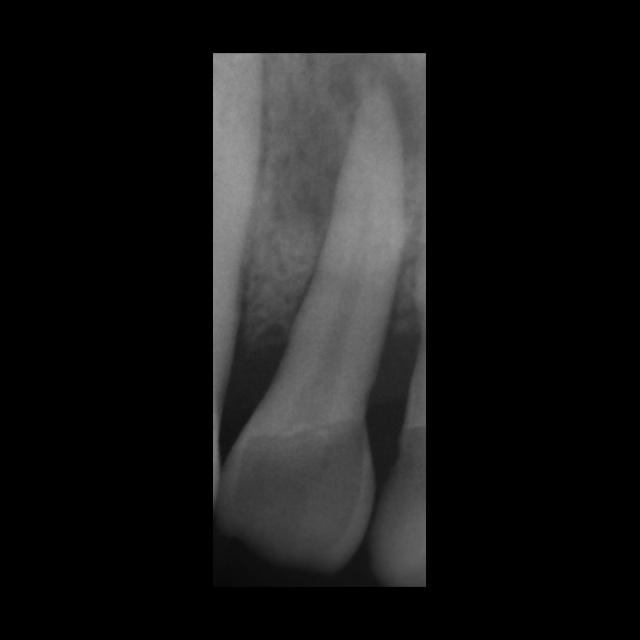tooth: (212, 93, 404, 576)
